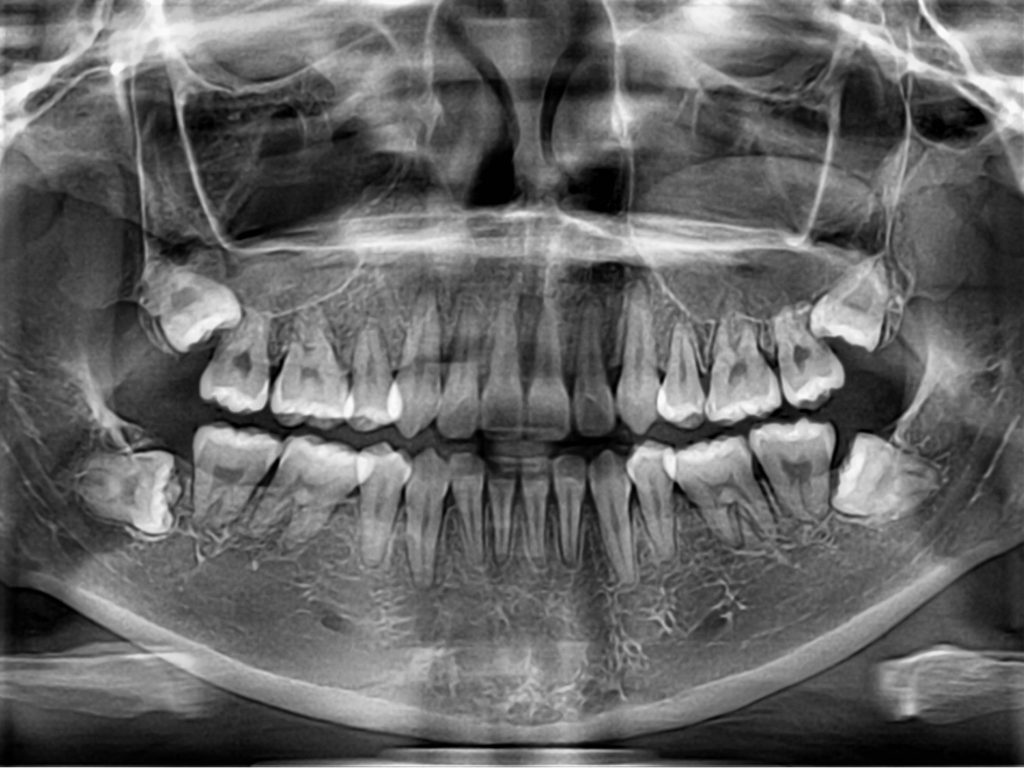canine: (385, 286, 453, 443), (401, 439, 456, 599), (613, 275, 664, 438), (591, 446, 628, 577)
incisor: (475, 288, 535, 439), (522, 297, 574, 448), (436, 295, 488, 442), (568, 287, 617, 439), (449, 446, 489, 570), (487, 448, 523, 565), (557, 449, 590, 574), (520, 452, 553, 571)
molar: (252, 436, 384, 552), (268, 295, 360, 440), (664, 432, 778, 542), (81, 435, 191, 548), (828, 420, 938, 526), (748, 411, 843, 523), (189, 411, 281, 526), (202, 296, 285, 422), (697, 307, 785, 421), (761, 303, 848, 415), (147, 265, 247, 350), (809, 263, 893, 356)
premolar: (352, 439, 416, 572), (627, 424, 683, 570), (346, 322, 403, 432), (657, 315, 709, 433)
